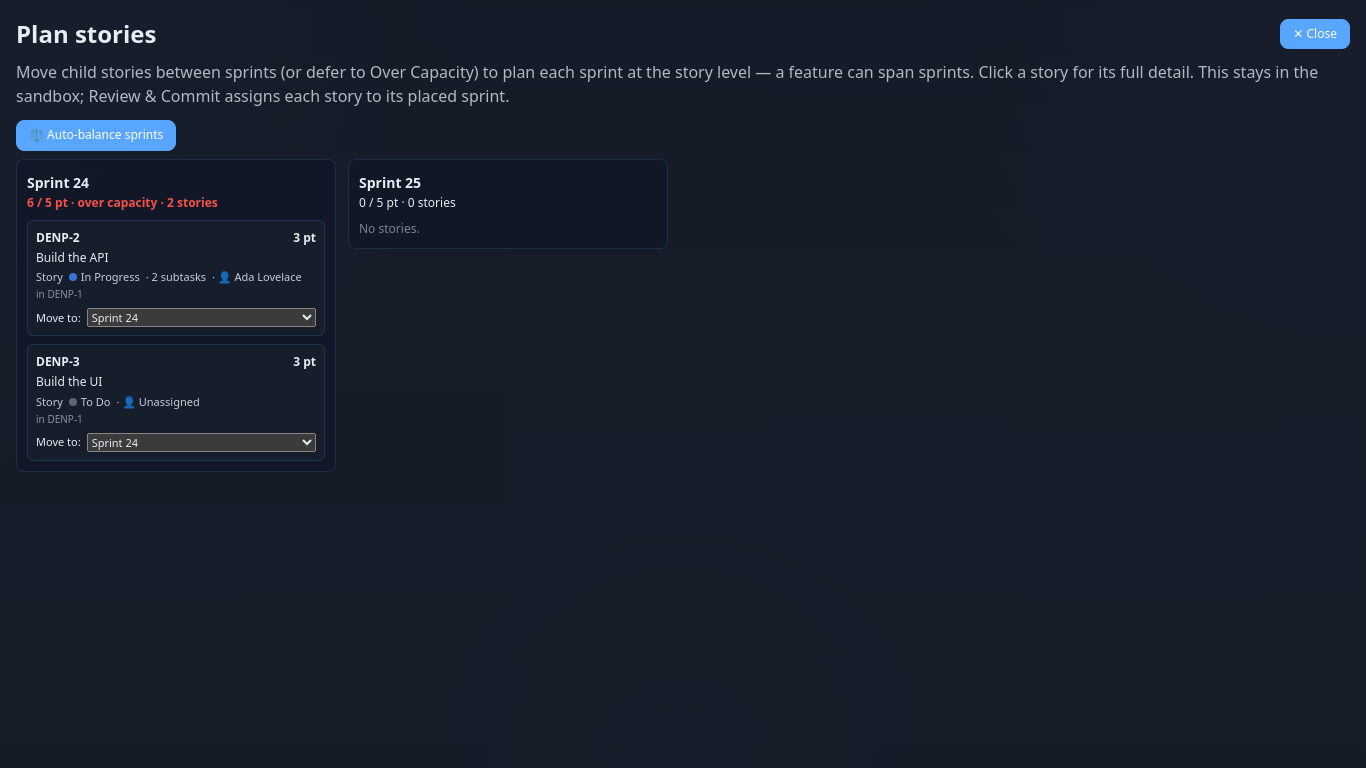
Test: StoryPlanningPanel › opens the story inspector (description/AC/comments experience) when a card is clicked
What coordinates should you click on to do the following:
click the button titled "Open DENP-2 detail"
I would click on:
 (58, 237)
Its box is [36,229,316,302].
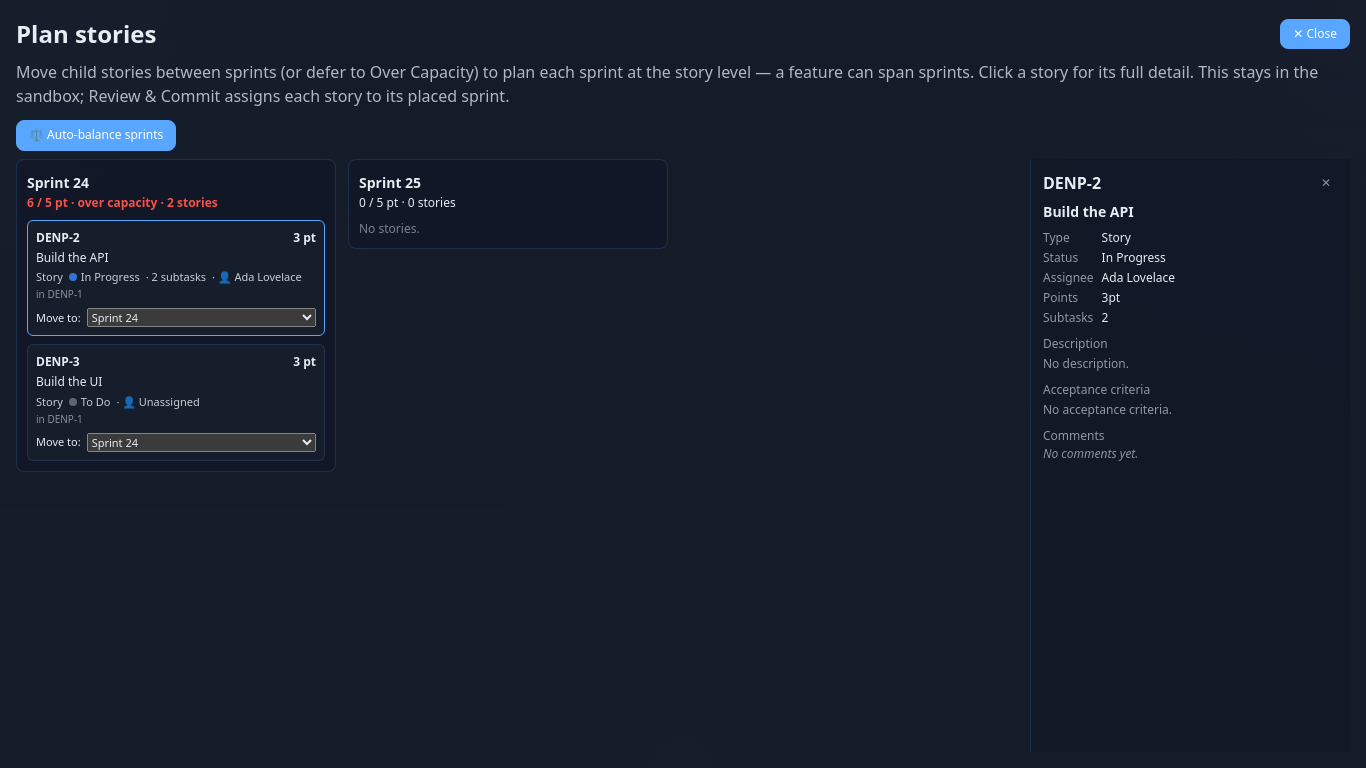
Check: the text "Description" is shown, box [1043,335,1108,352]
Check: the text "Acceptance criteria" is shown, box [1043,381,1150,398]
